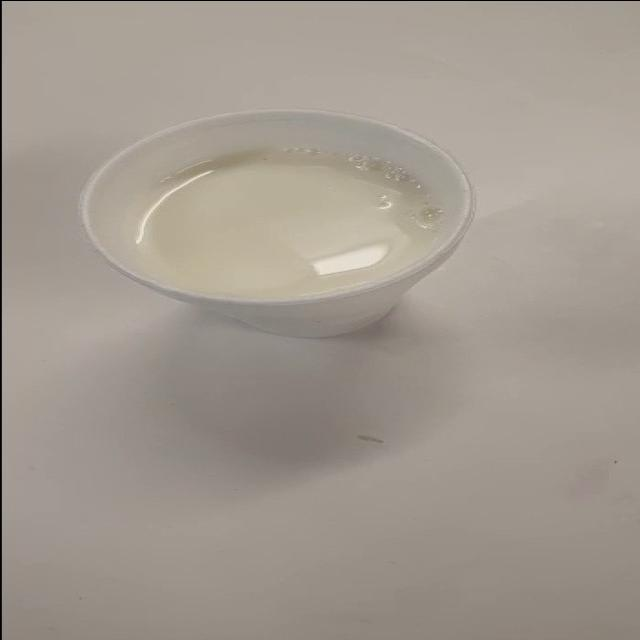Milk: (78, 92, 502, 369)
